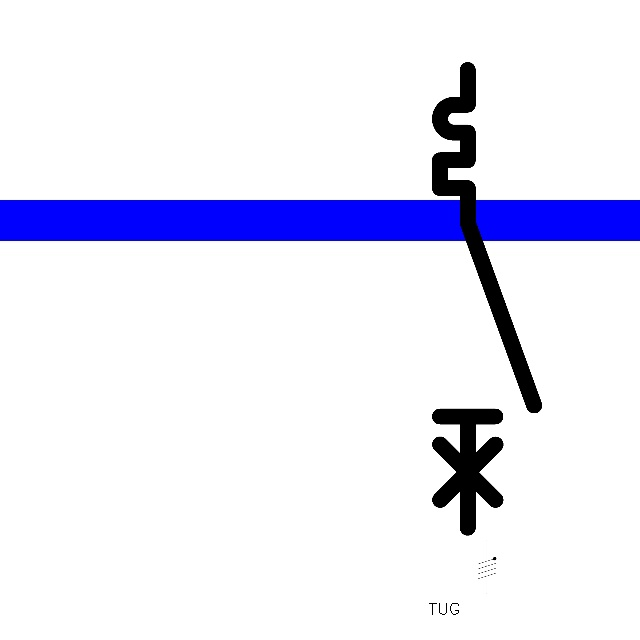interruptor_termomagnetico: (428, 58, 546, 540)
